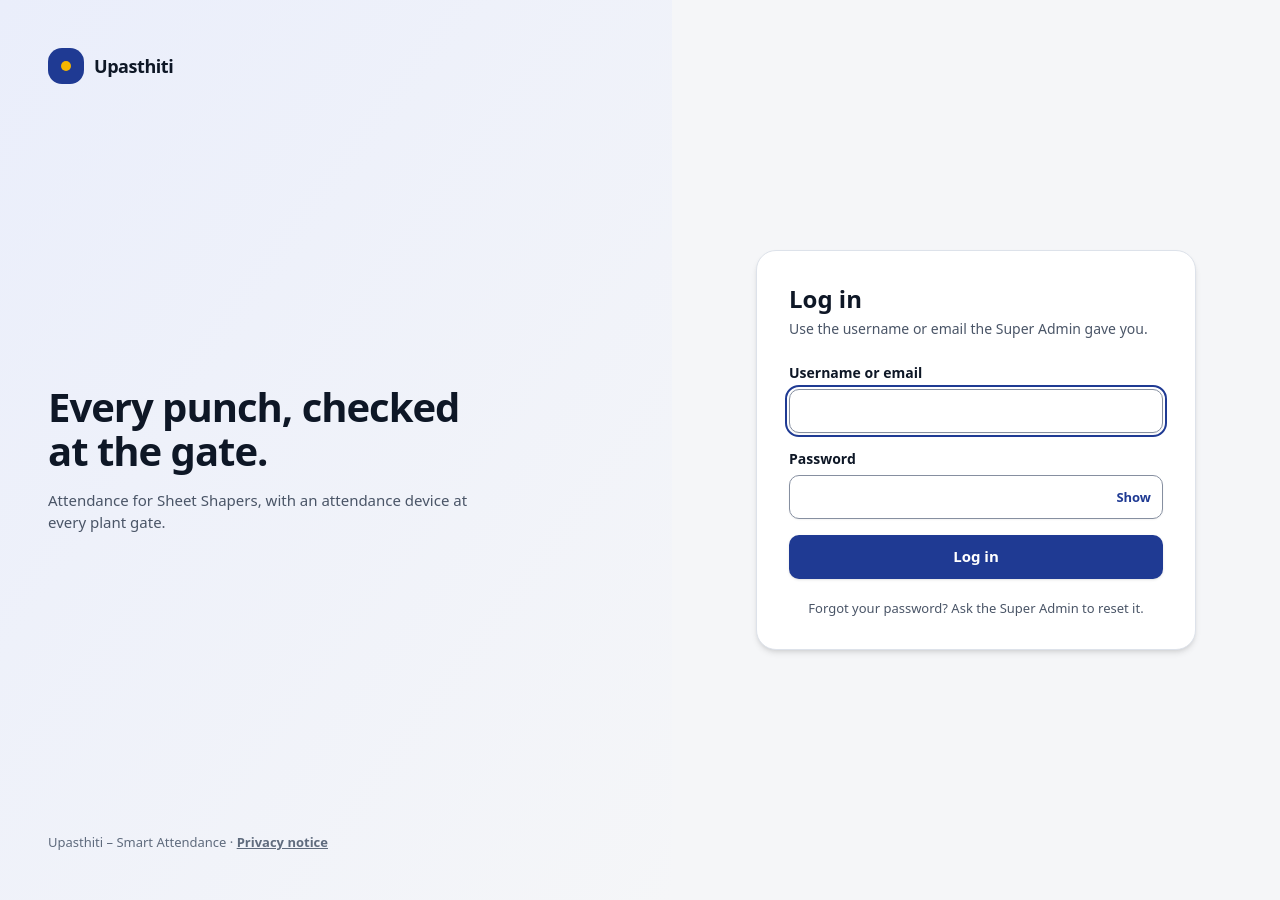
Test case: login screen (spec AC-2) › says how many minutes a locked account stays locked and turns the button off
This screenshot has width=1280, height=900.
Type "tushar" into the field labelled "Username or email".
click(976, 411); type("tushar")  # box [789,389,1163,433]
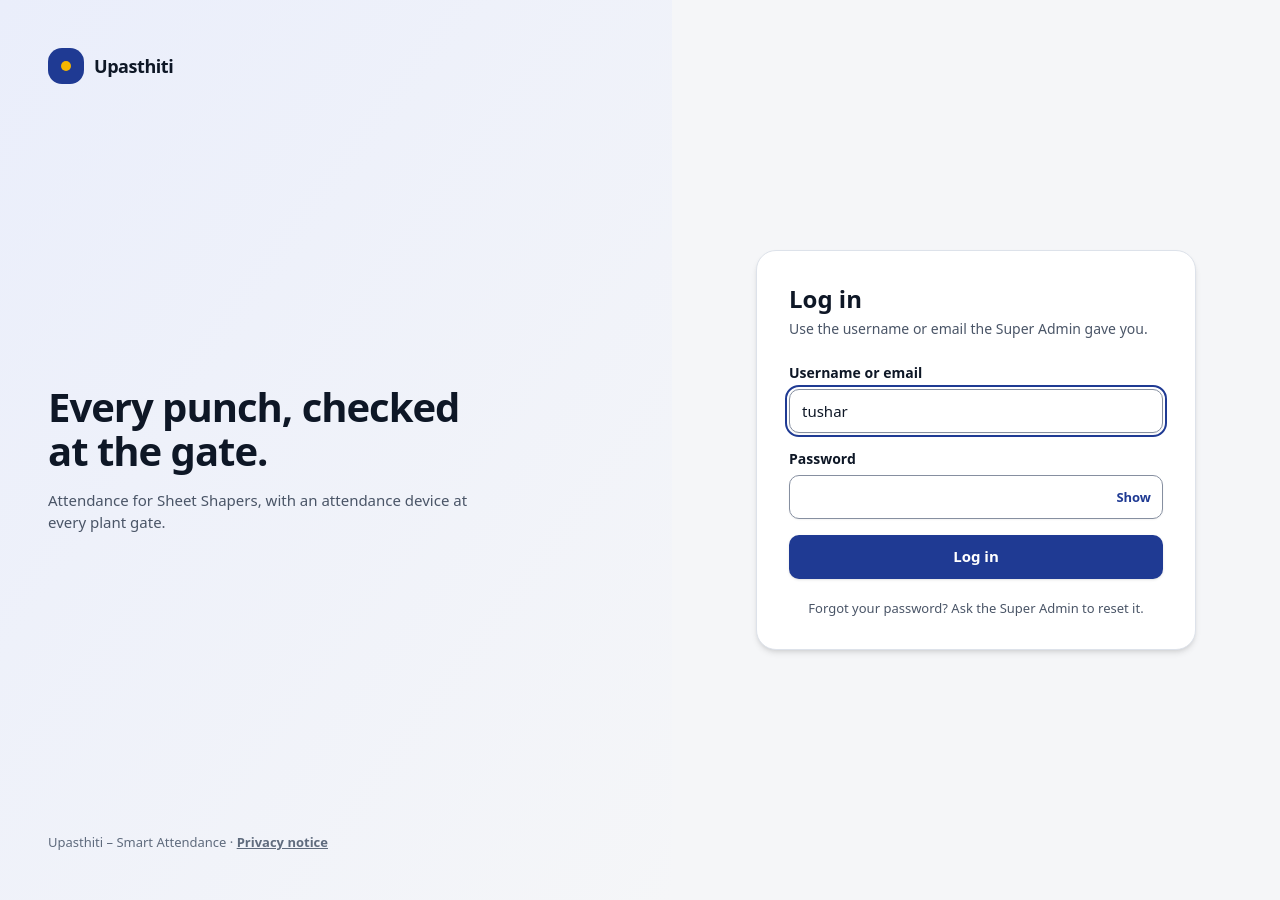
Type "wrong" into the password field labelled "Password".
click(976, 497); type("wrong")  # box [789,475,1163,519]
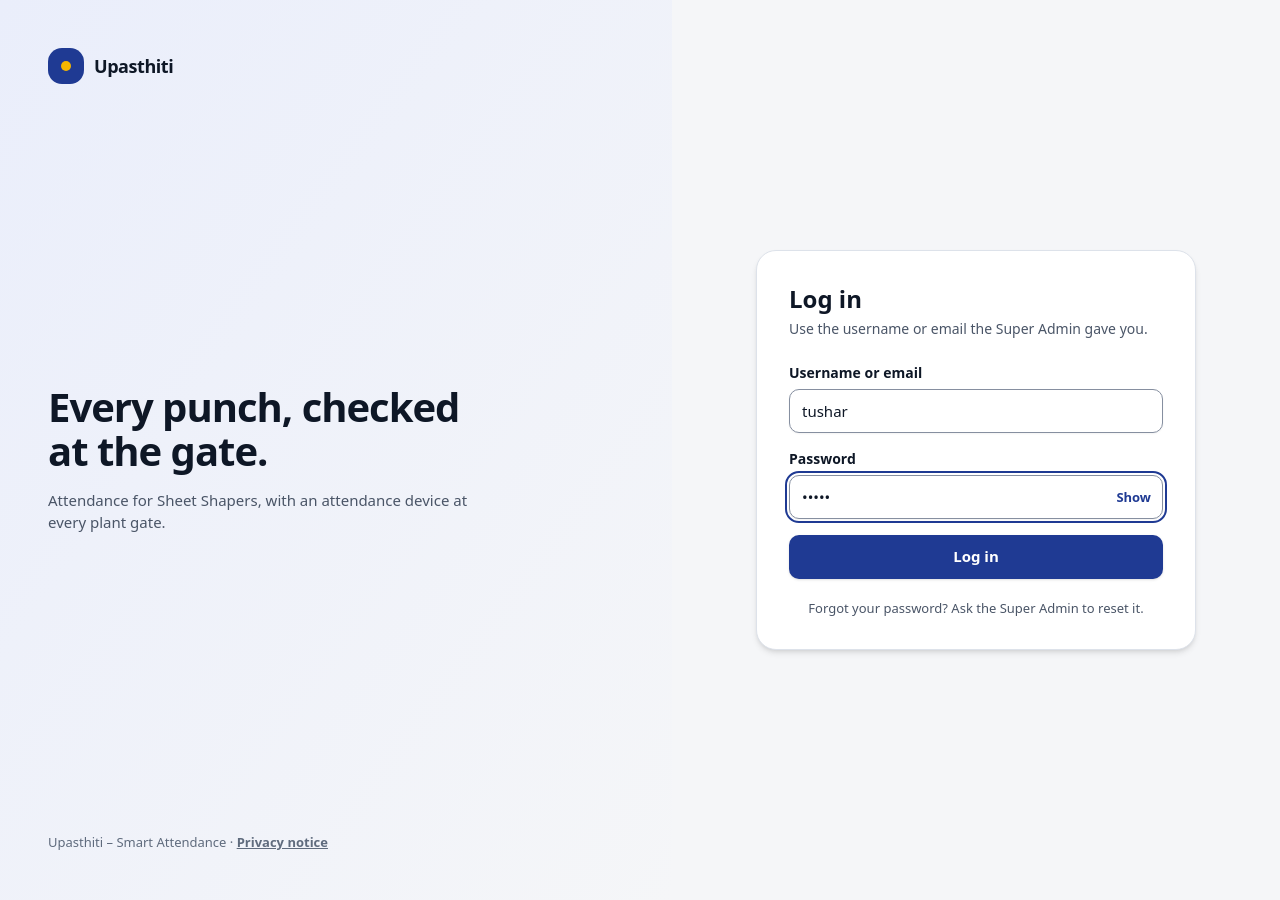
Click the button "Log in".
click(976, 557)  # box [789,535,1163,579]
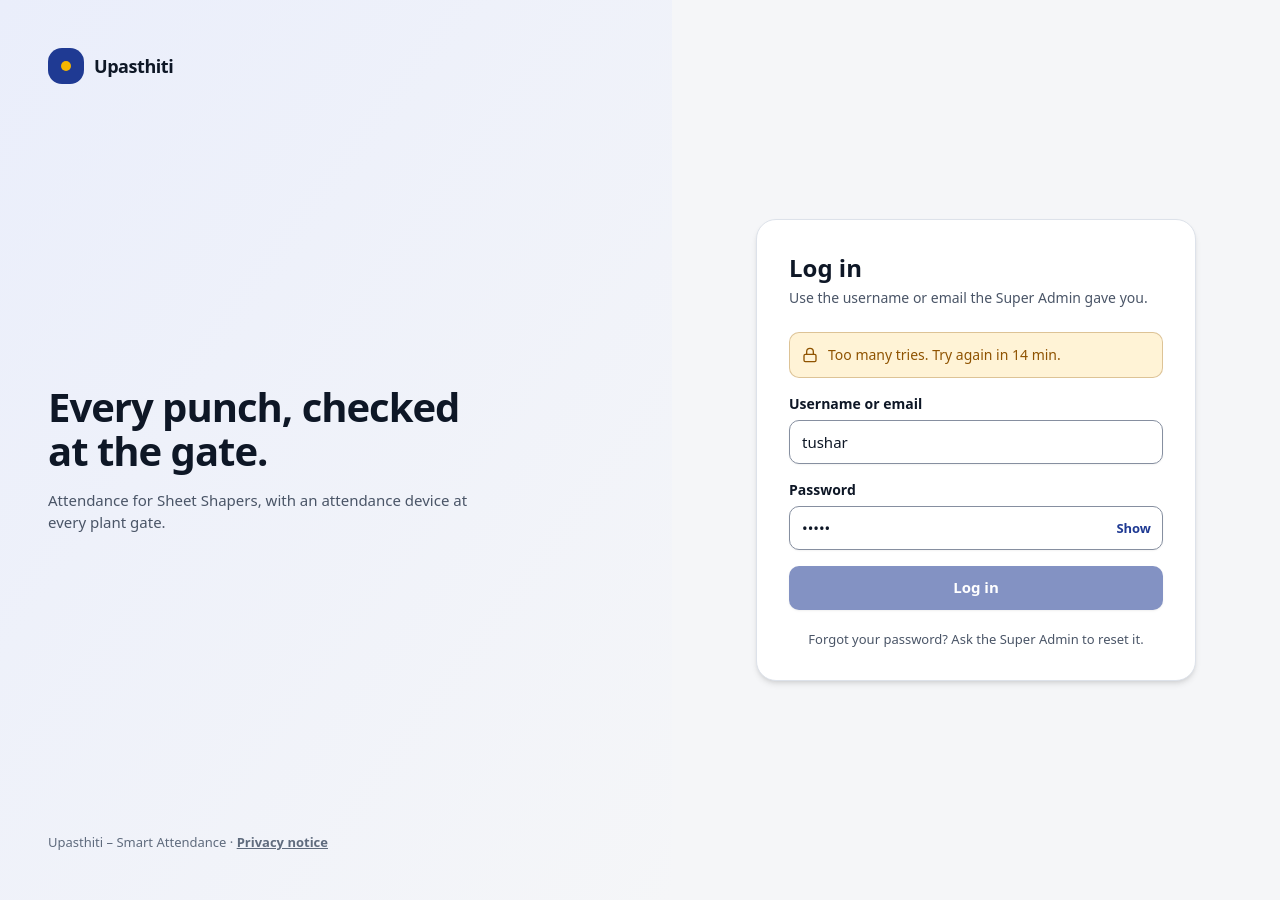
expect the message shows "Try again in 14 min.": met, box [828,345,1061,364]
expect the button "Log in" is disabled: met, box [789,566,1163,610]
